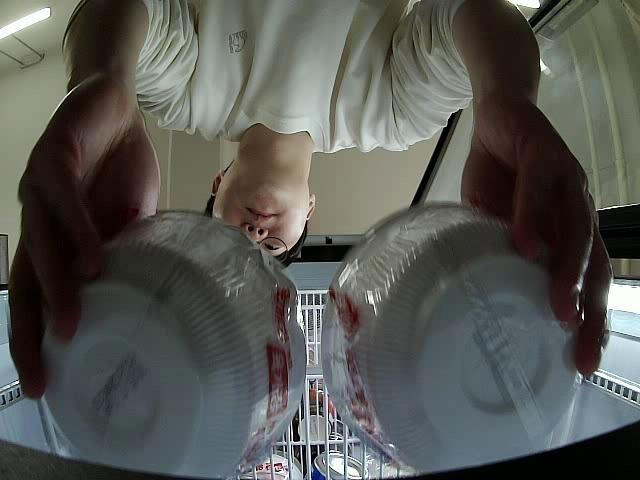09_yukGaeJang: (32, 204, 308, 480), (321, 202, 583, 471)
